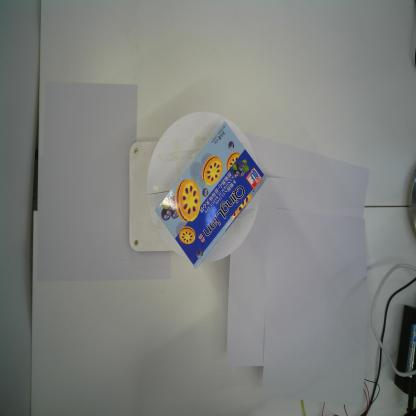Dessert: (154, 121, 268, 270)
